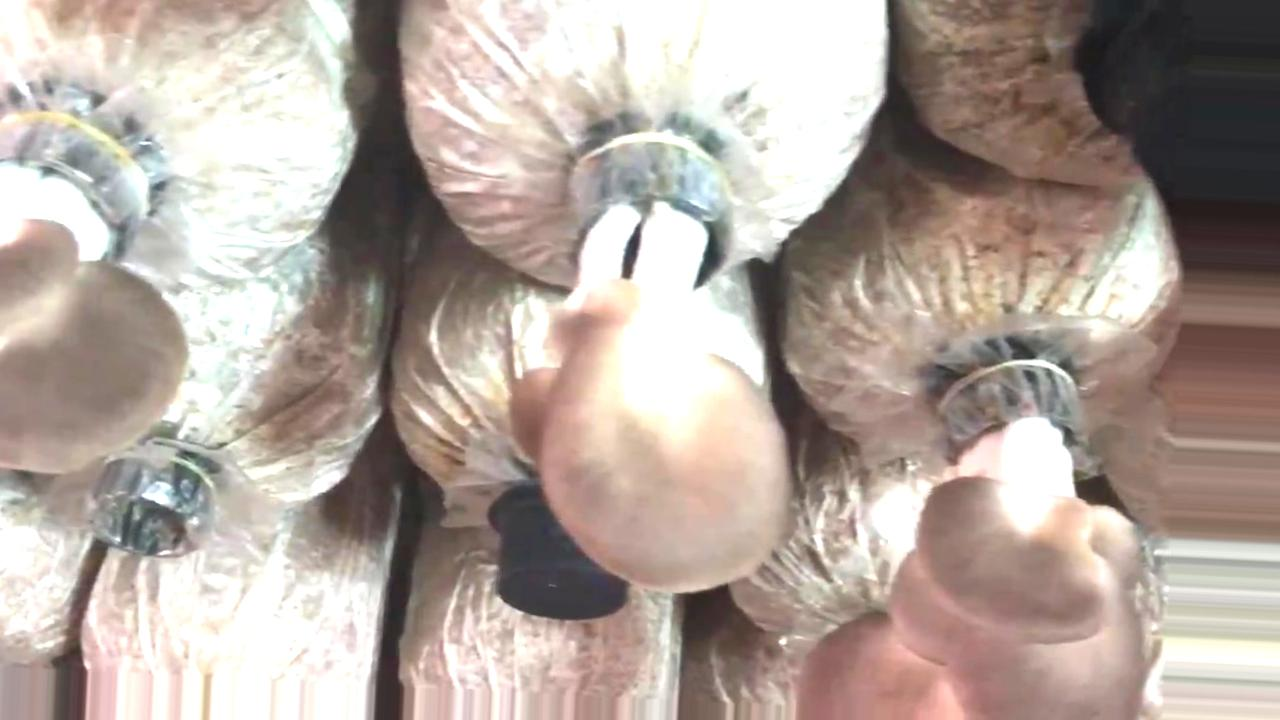nam: (510, 147, 788, 590), (802, 366, 1149, 720), (1, 107, 184, 473)
